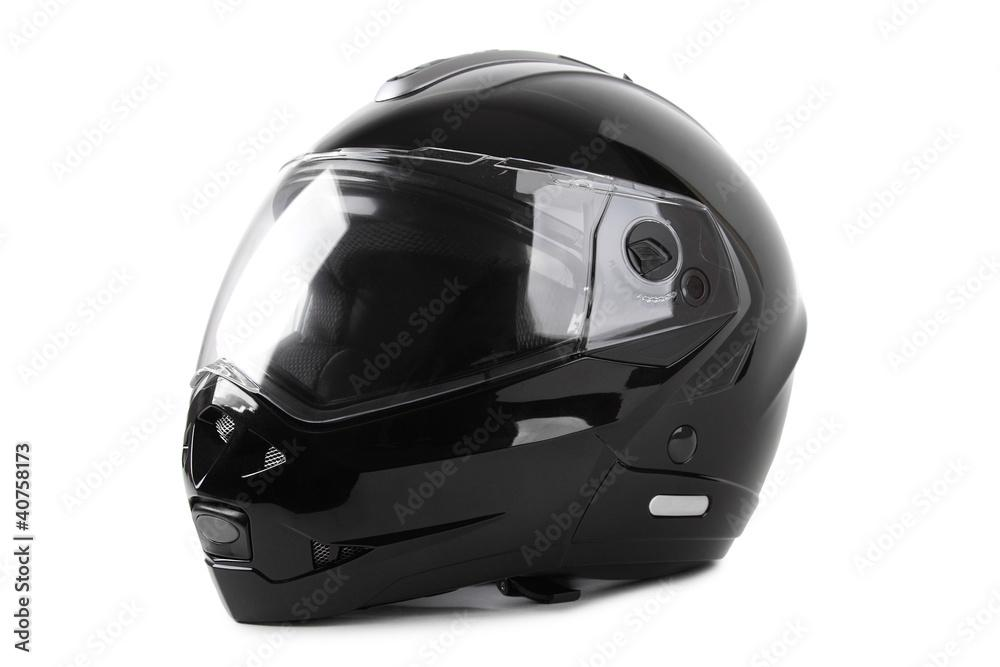helmet: (178, 46, 810, 627)
